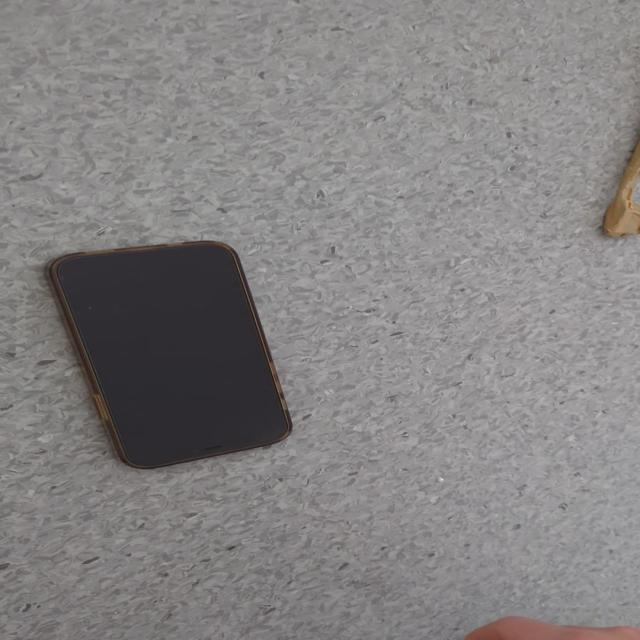phone: (44, 240, 293, 470)
